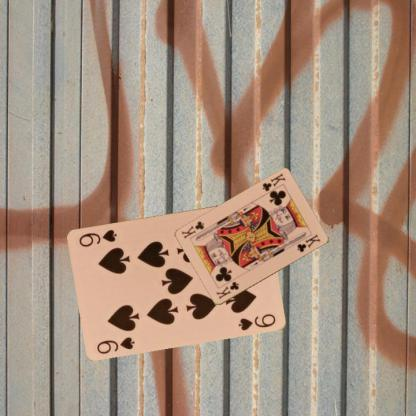9s: (95, 334, 136, 356)
Kc: (213, 279, 240, 301), (260, 171, 287, 193)
